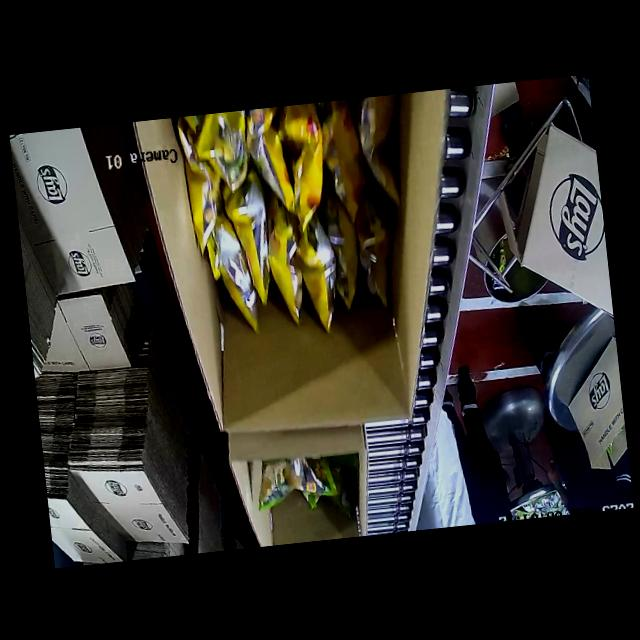salted: (210, 98, 377, 359)
yogurt: (247, 449, 352, 521)
